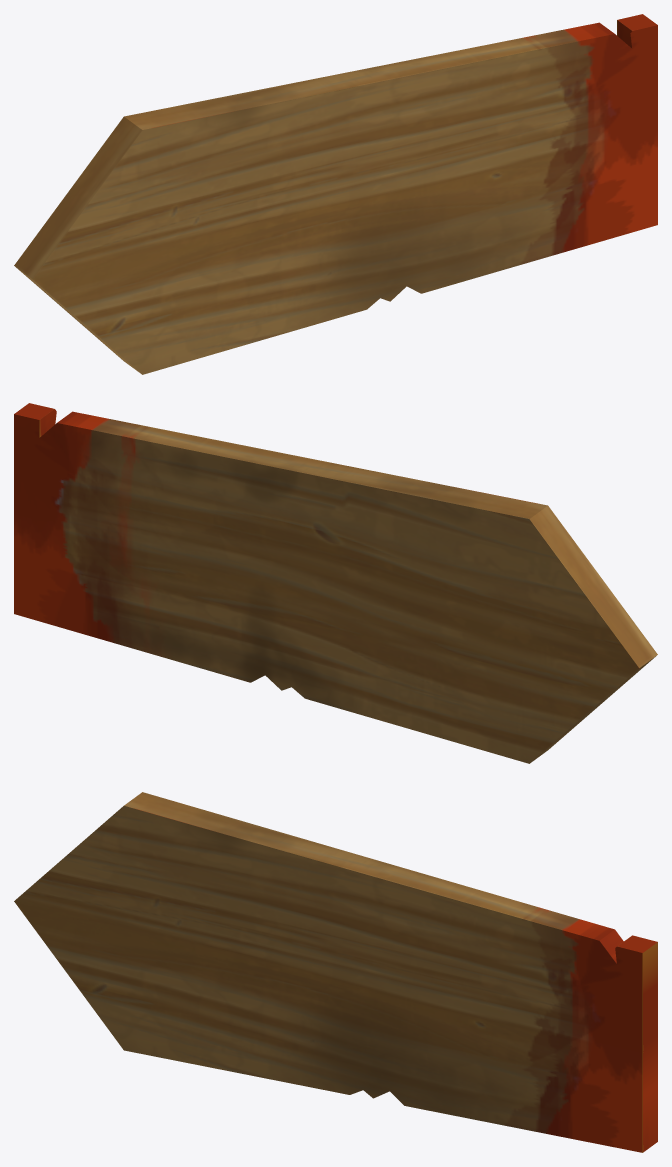
Rendered from CartelRojo1_MapSelector.fbx.
3 renders of one model, top to bottom at view 1: azimuth 30°, elevation 25°; view 2: azimuth 150°, elevation 25°; view 3: azimuth 330°, elevation 25°, orthographic.
Parts seen in each view (by area): view 1: Cylinder.007; view 2: Cylinder.007; view 3: Cylinder.007.
Boxes of the visible parts, box(x1,y1,x2,y2) form: Cylinder.007: box(14, 14, 657, 374); Cylinder.007: box(14, 403, 657, 763); Cylinder.007: box(14, 792, 657, 1152).
Bounding box in the file's own units: 14.32 × 5.34 × 0.7371.
